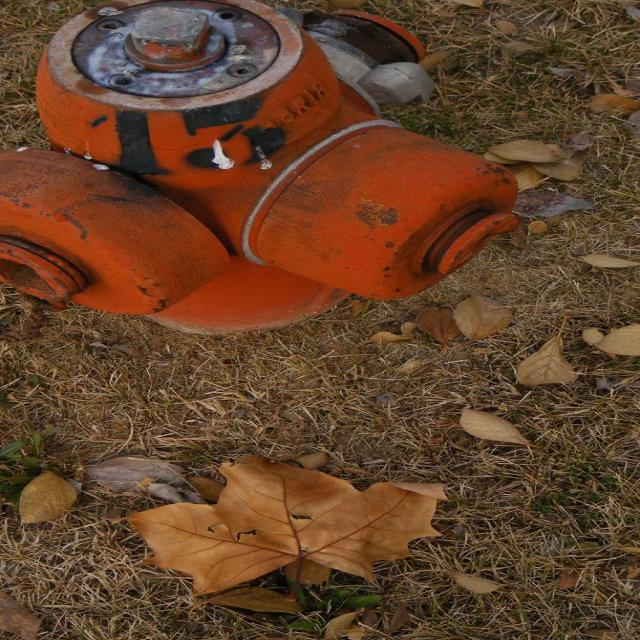fire_hydrant: (0, 0, 521, 334)
